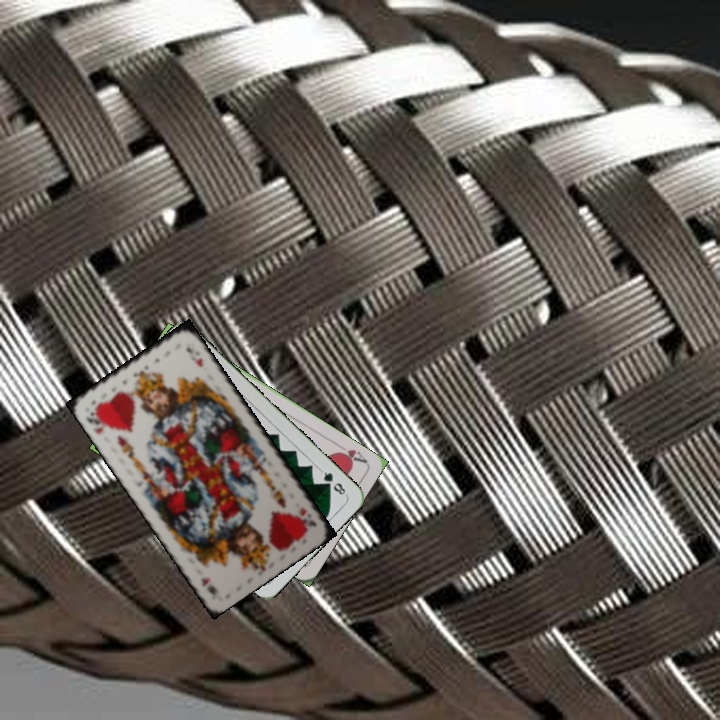G8: (317, 466, 349, 499)
HA: (331, 439, 369, 466)
HK: (83, 404, 109, 436), (292, 503, 319, 533)
